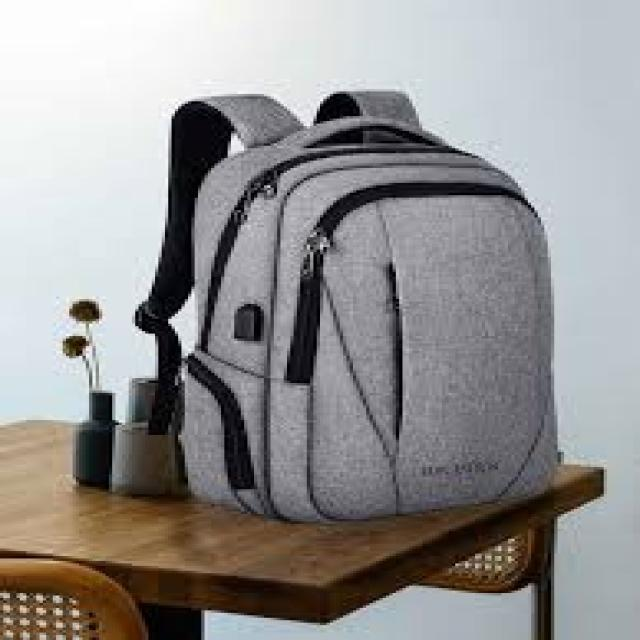backpack: (133, 90, 562, 525)
